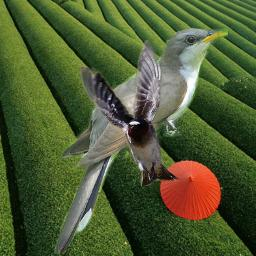Cuckoo: (54, 28, 228, 254)
Swallow: (80, 40, 179, 186)
